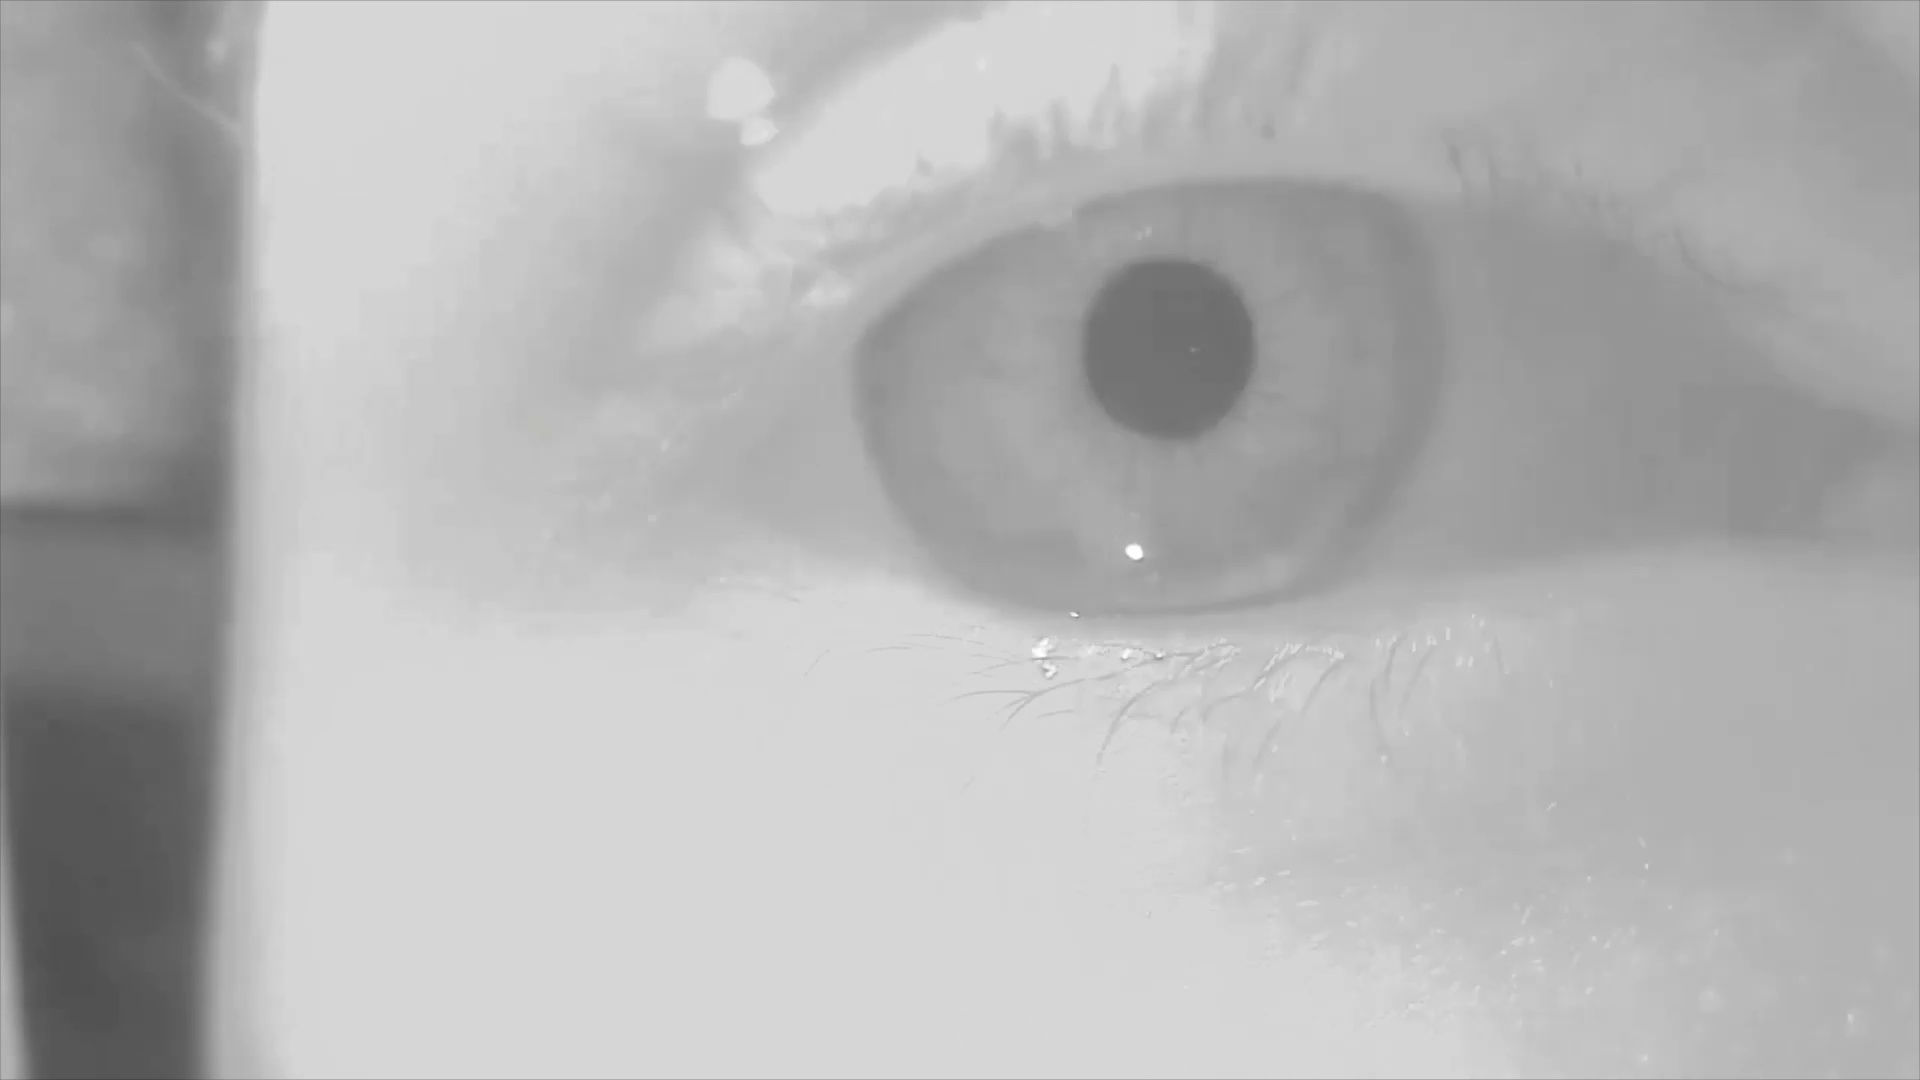pupil: (1086, 263, 1261, 441)
